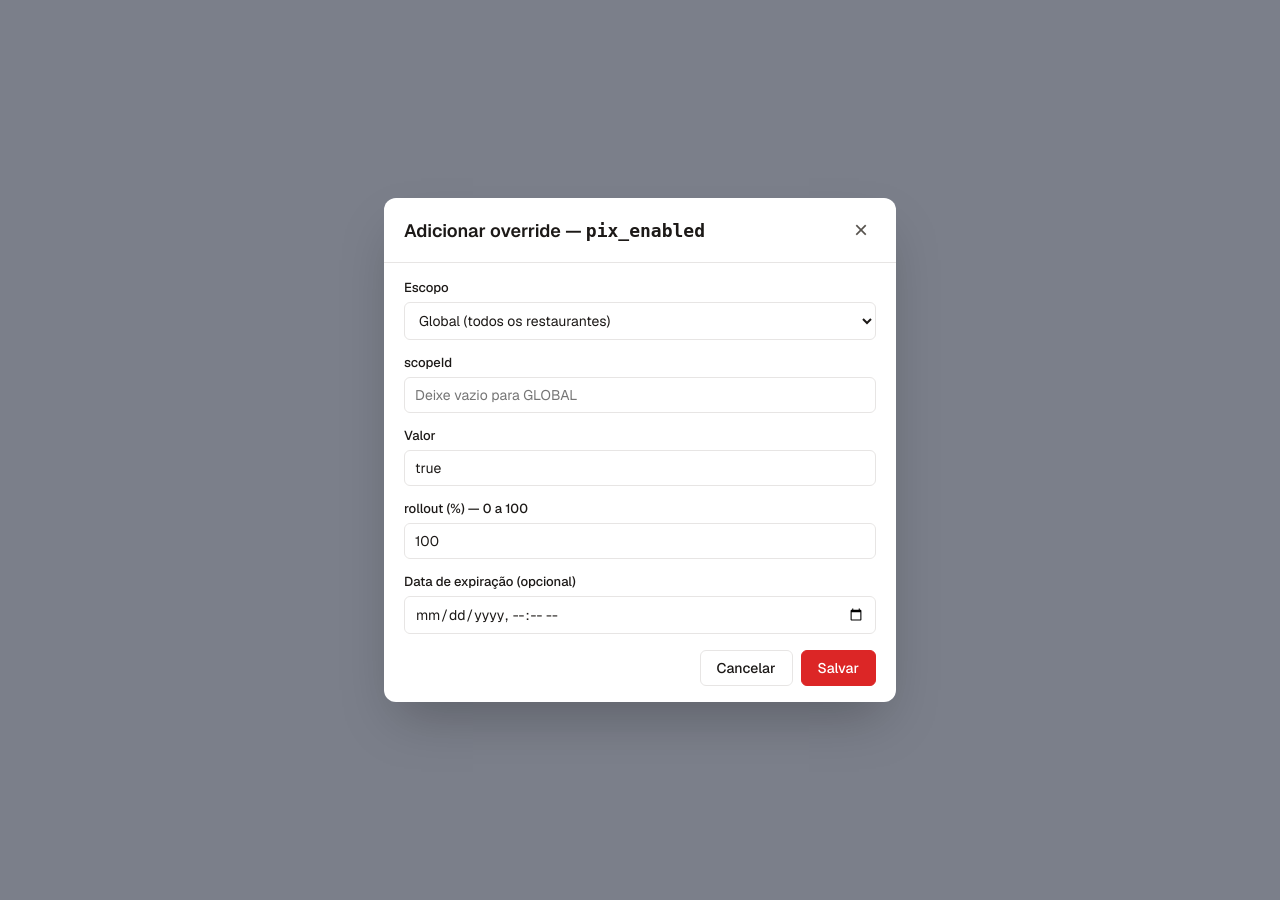
Test: ModalOverrideFeatureFlag (RF-ADM-FF-05/06) › rejeita scope=GLOBAL com scopeId preenchido (validação client-side)
Select "Global (todos os restaurantes)" in the dropdown labelled "Escopo": [640, 321] box [404,302,876,340]
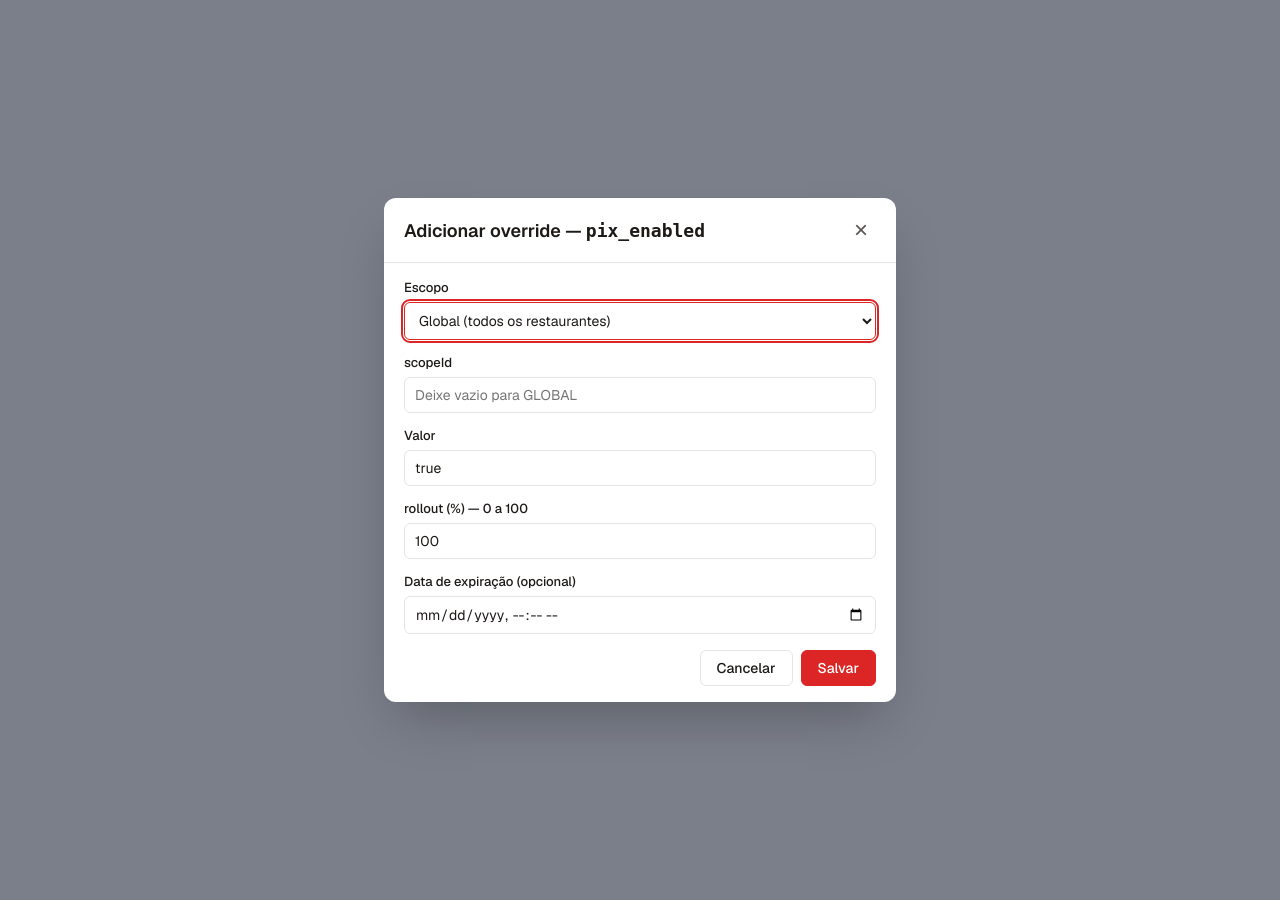
In the field labelled "scopeId": [640, 395] box [404,377,876,413], type "qualquer"
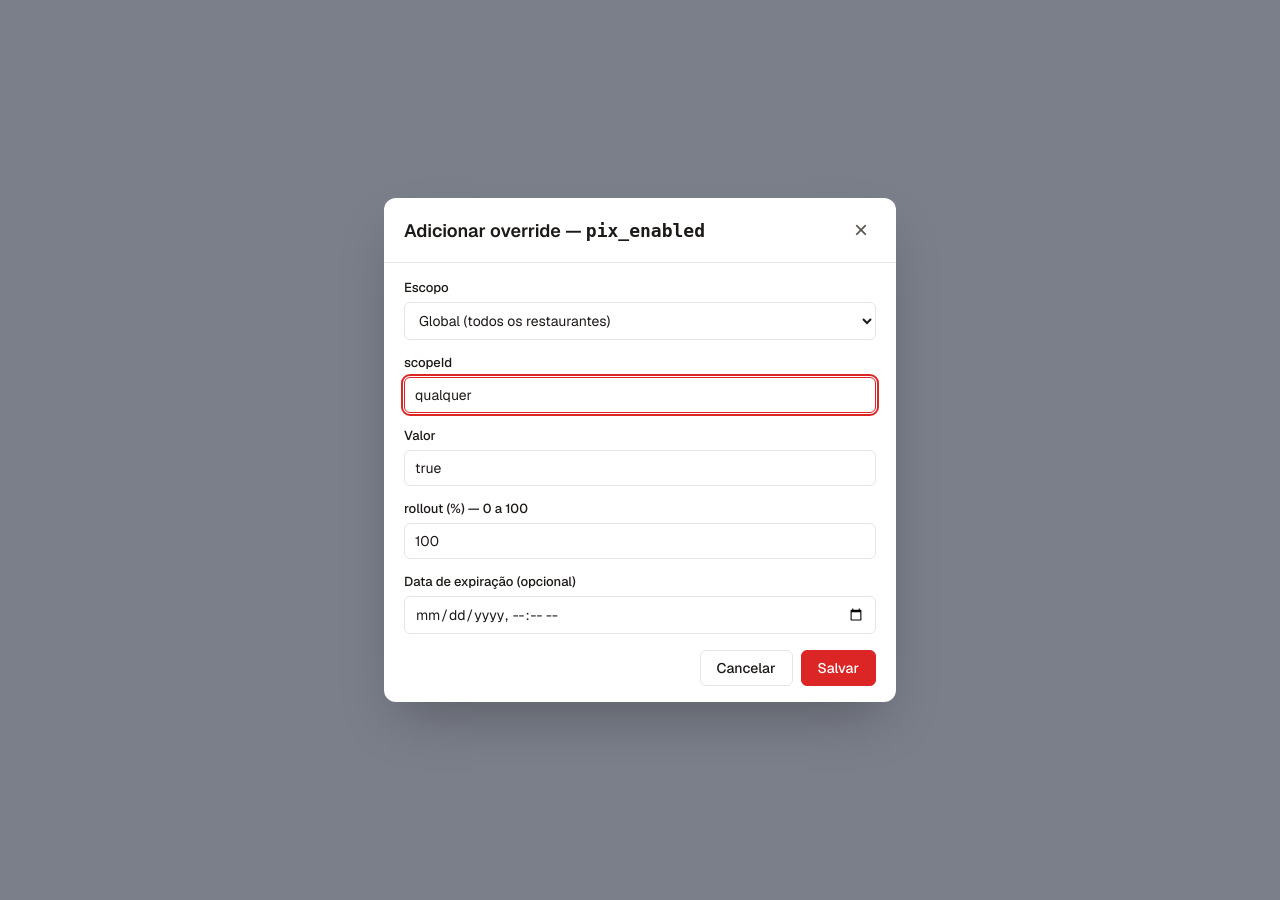
Click the button with test id "btn-salvar-override": [838, 668] box [800,650,876,686]
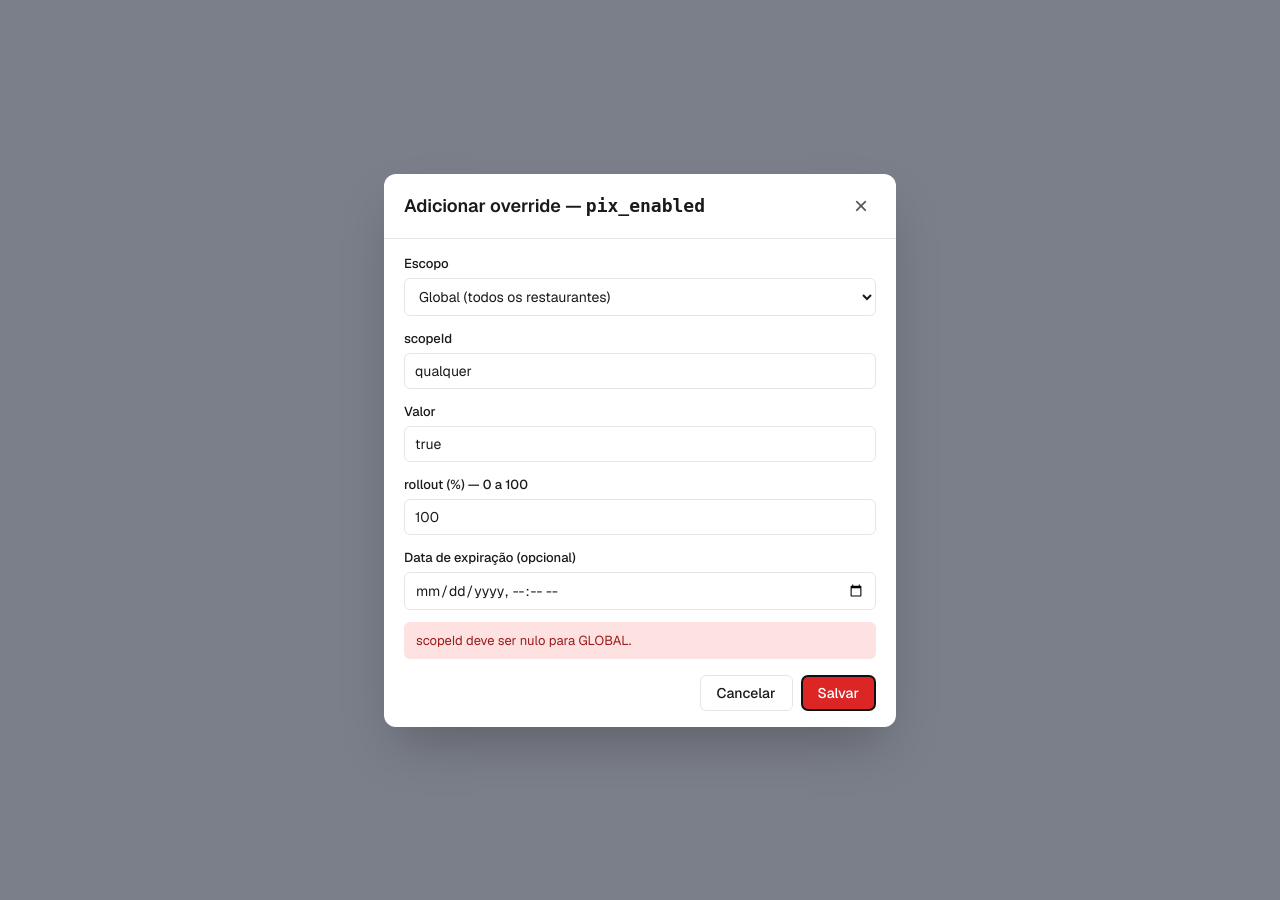
Now the text "scopeId deve ser nulo para GLOBAL." is shown, box [404,622,876,658]
